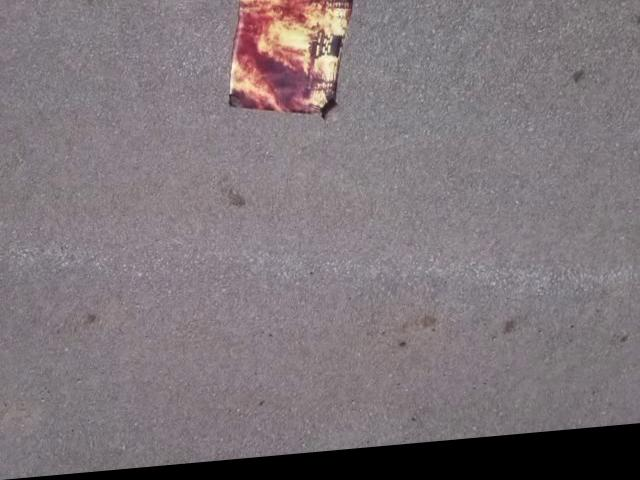fire-poster: (226, 0, 360, 135)
